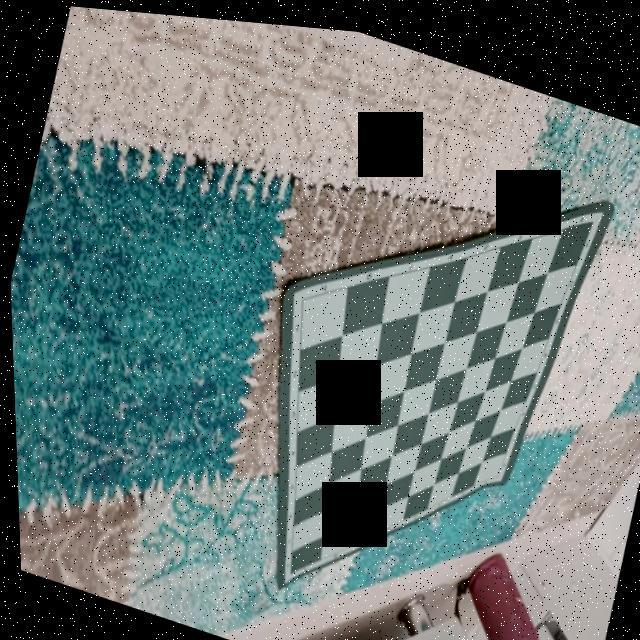chess-table-corners: (286, 278, 312, 312), (483, 452, 508, 479), (276, 553, 298, 582), (579, 199, 602, 226)
